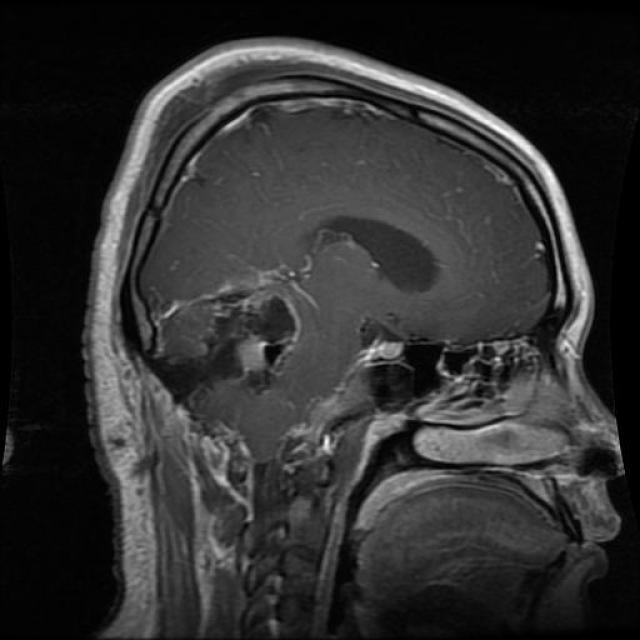glioma: (164, 270, 305, 399)
